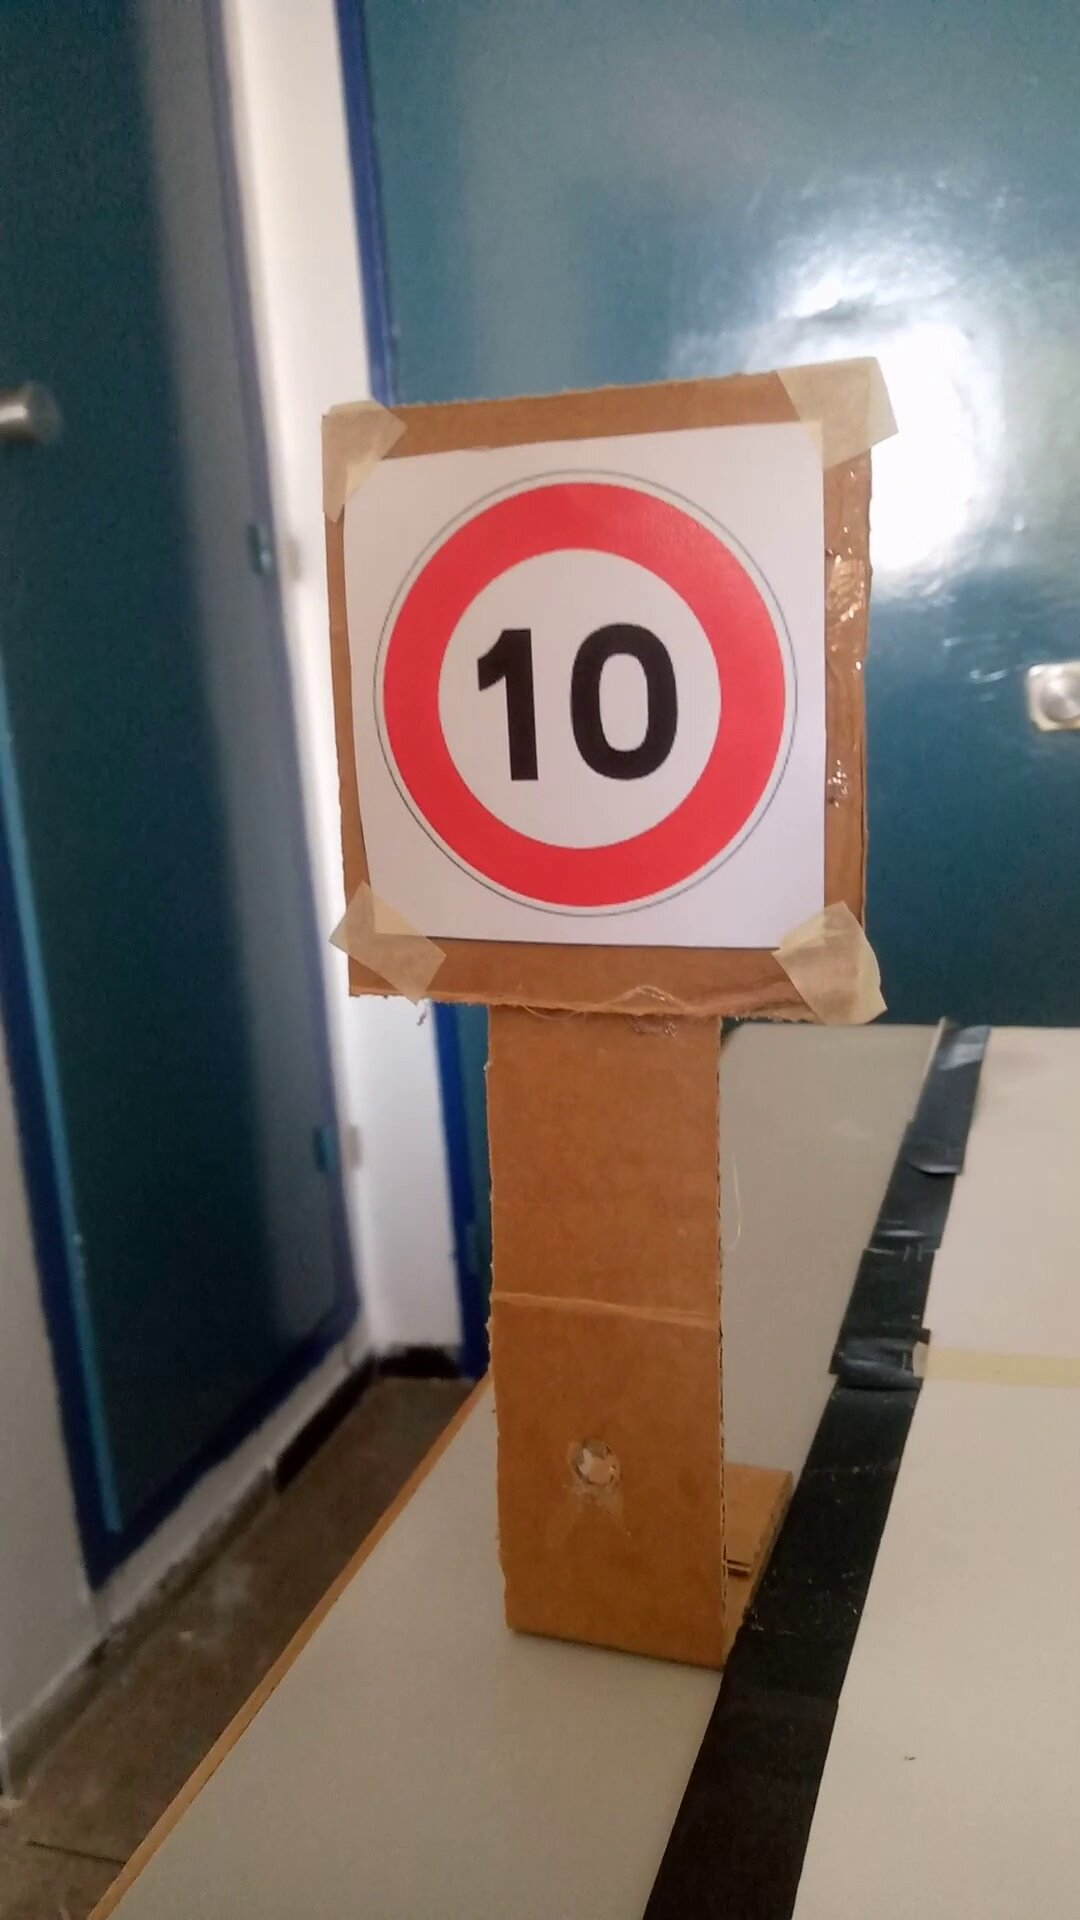panel011: (330, 440, 851, 967)
